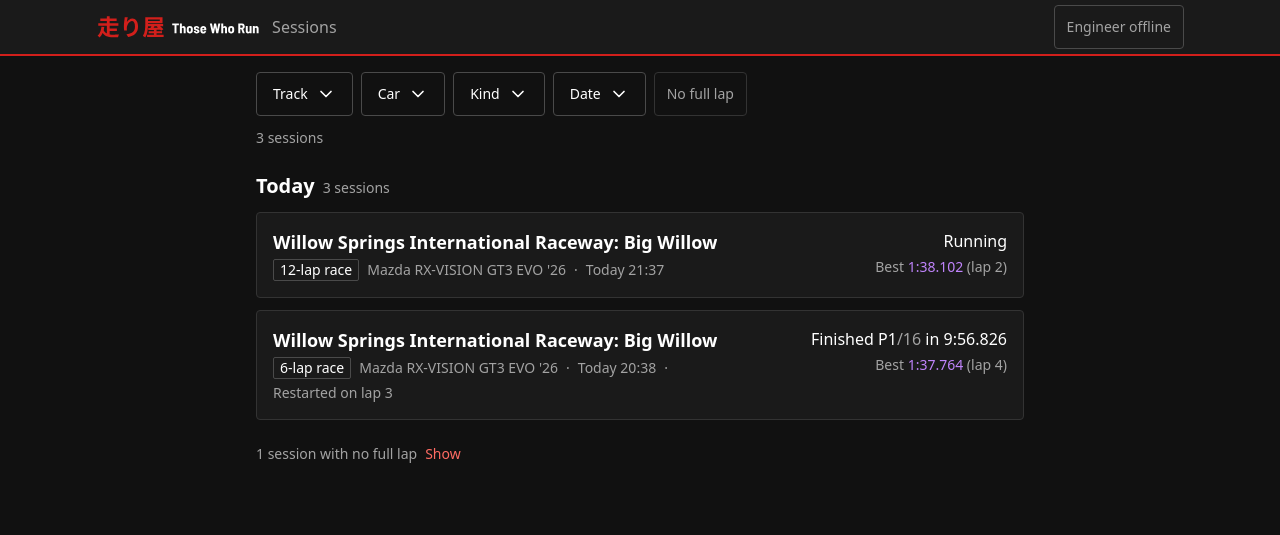
the session list › tucks away a session with no full lap, and ?all=1 shows it (R4)
Expected: the link "Tokyo Expressway - East Clockwise" is not shown
Click the button "1 session with no full lap Show": [358, 454] box x1=240 y1=432 x2=477 y2=476
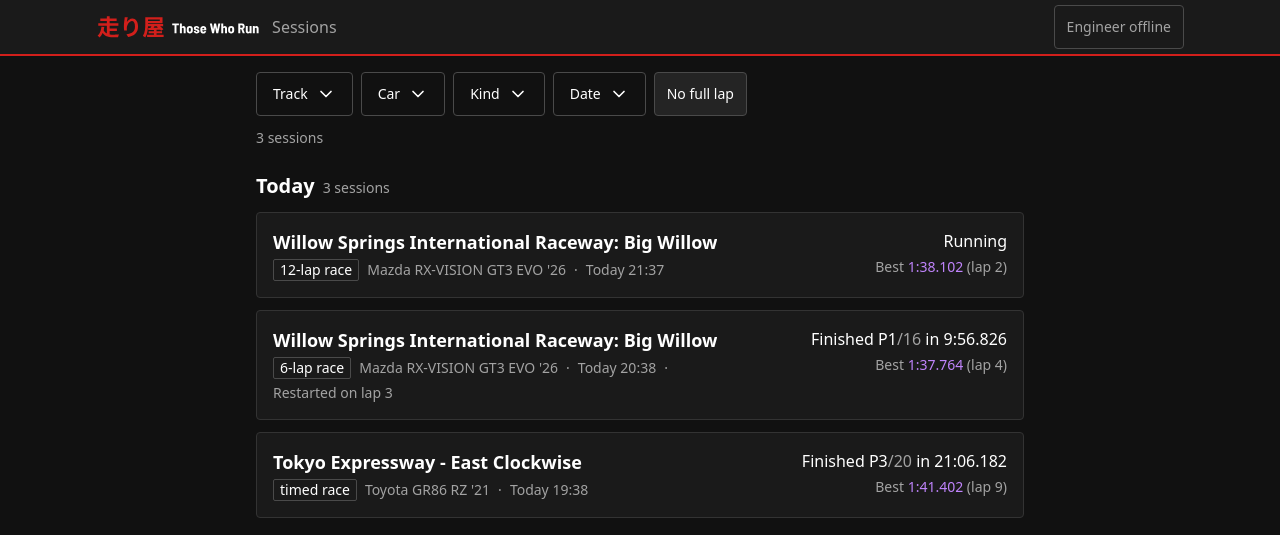
Now the link "Tokyo Expressway - East Clockwise" is shown, box x1=273 y1=449 x2=582 y2=475
